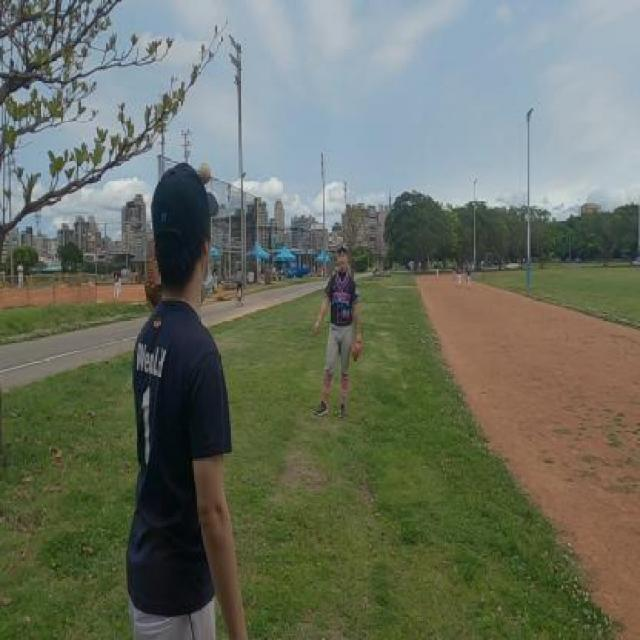baseball: (198, 163, 211, 185)
